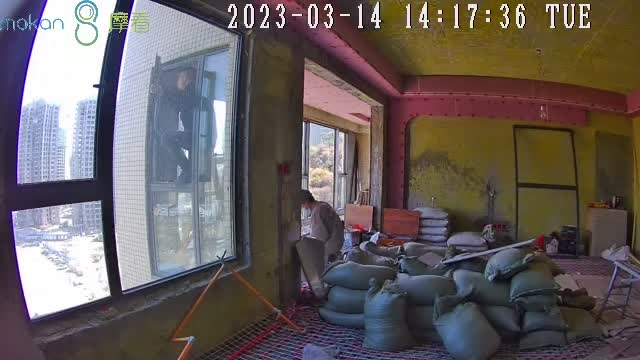people: (301, 189, 345, 269)
window: (18, 19, 241, 331), (302, 120, 356, 215)
